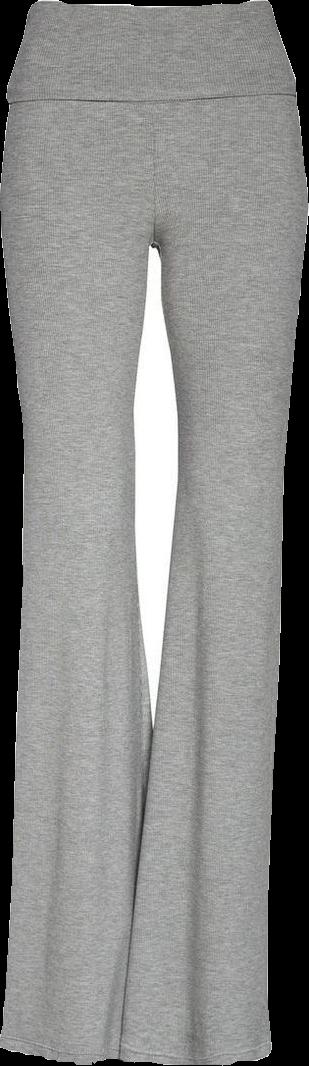Hemline: (2, 1037, 152, 1064), (105, 1048, 272, 1065)
Pantleg: (110, 2, 306, 1065), (0, 3, 167, 1063)
Waistline: (6, 87, 298, 109), (27, 0, 270, 17)
